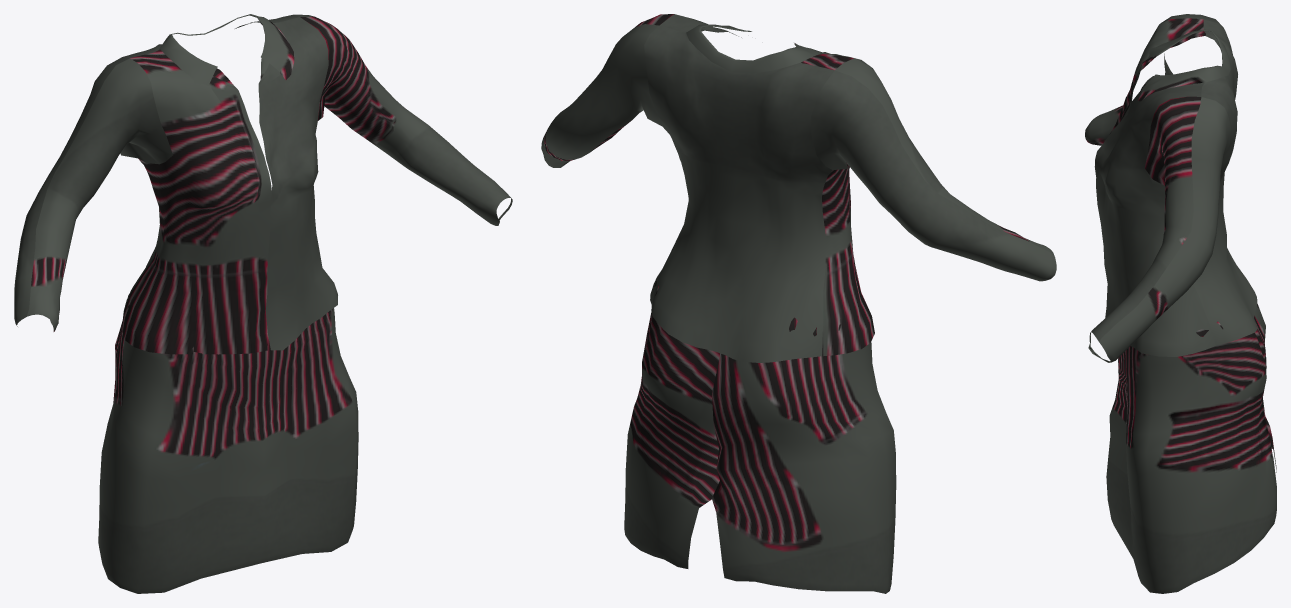
File: office-female.glb
3 views of the same model, side by side, from view 1: azimuth 30°, elevation 25°; view 2: azimuth 150°, elevation 25°; view 3: azimuth 270°, elevation 25° (orthographic). The views are drawn at different scales.
Parts seen in each view (by area): view 1: office-female; view 2: office-female; view 3: office-female.
Part boxes in pixels (<box>): office-female: <box>14,14,512,593</box>; office-female: <box>541,14,1056,593</box>; office-female: <box>1085,14,1276,593</box>.
Bounding box in the file's own units: 0.8903 × 0.9003 × 0.3159.
Materials: 1 (1 with a texture image).
